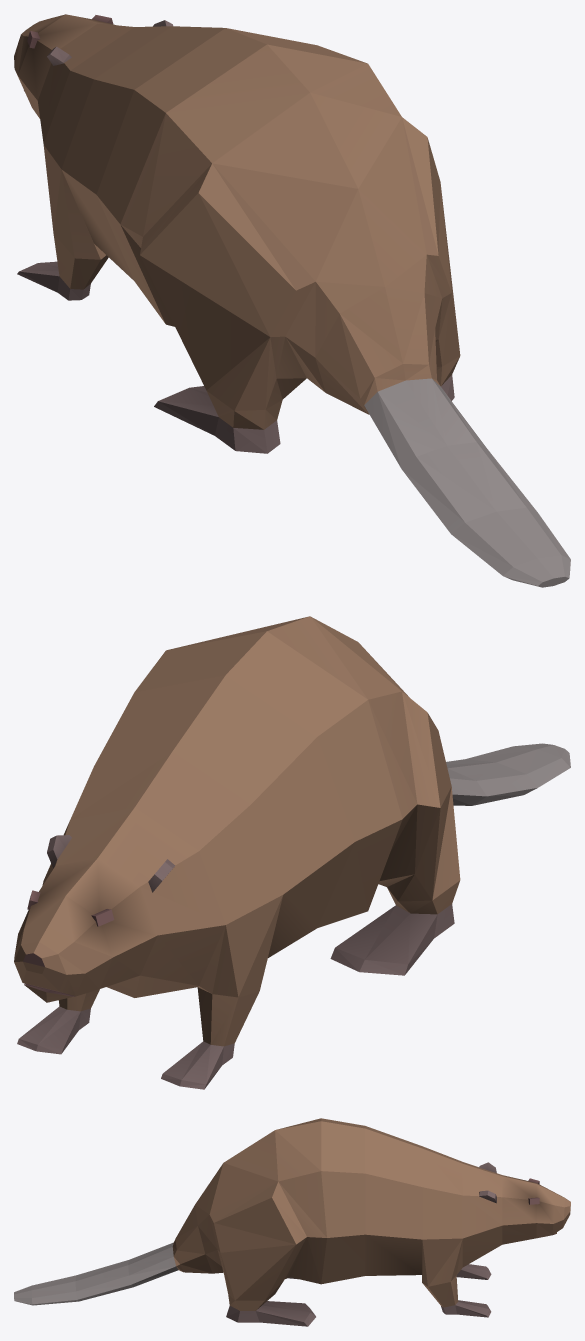
The model's file is kiemenbiber.glb.
The picture shows the model from 3 angles, top to bottom: view 1: azimuth 30°, elevation 25°; view 2: azimuth 150°, elevation 25°; view 3: azimuth 270°, elevation 25°; orthographic projection. The views are drawn at different scales.
Visible parts, largest first — view 1: Geo_Beaver; view 2: Geo_Beaver; view 3: Geo_Beaver.
Part boxes in pixels (<box>): Geo_Beaver: <box>14,14,570,587</box>; Geo_Beaver: <box>14,616,570,1089</box>; Geo_Beaver: <box>14,1118,570,1326</box>.
Bounding box in the file's own units: 0.9864 × 1.05 × 2.96.
